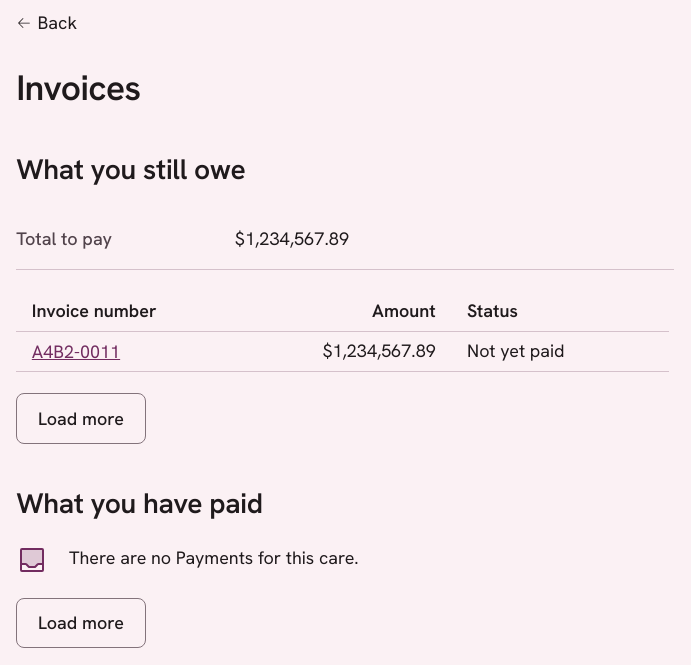
it: Client-portal Invoices (#1564) › loads the next page on request
Click the button "Load more" below "A4B2-0011": x=81, y=419 [16,393,146,444]
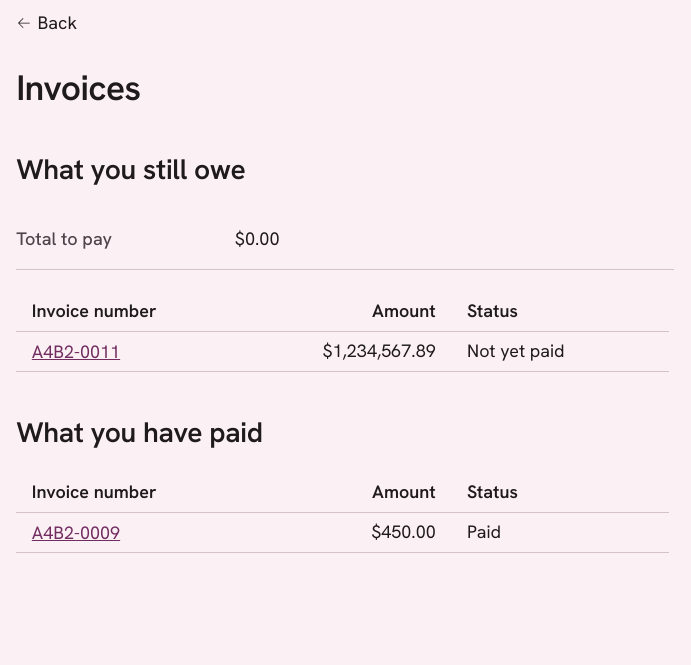
Result: the link "A4B2-0009" is shown at [32,521,120,544]
